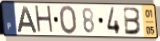4: (106, 6, 122, 36)
8: (82, 7, 96, 35)
A: (16, 5, 38, 34)
B: (123, 6, 143, 36)
H: (34, 5, 55, 36)
O: (58, 5, 79, 36)
